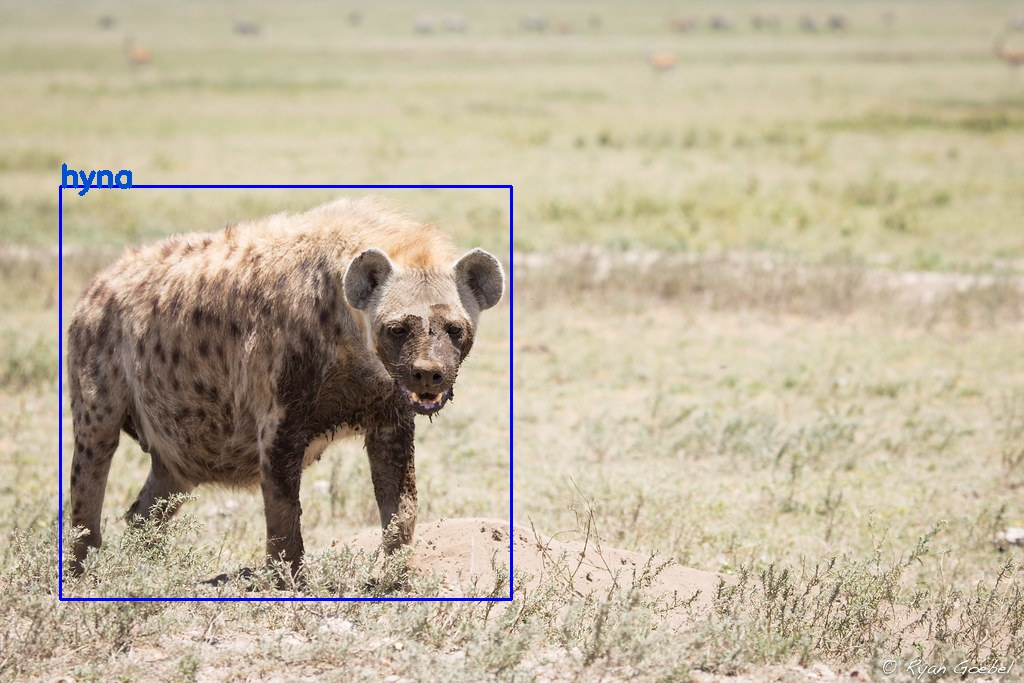hyna: (60, 186, 511, 599)
